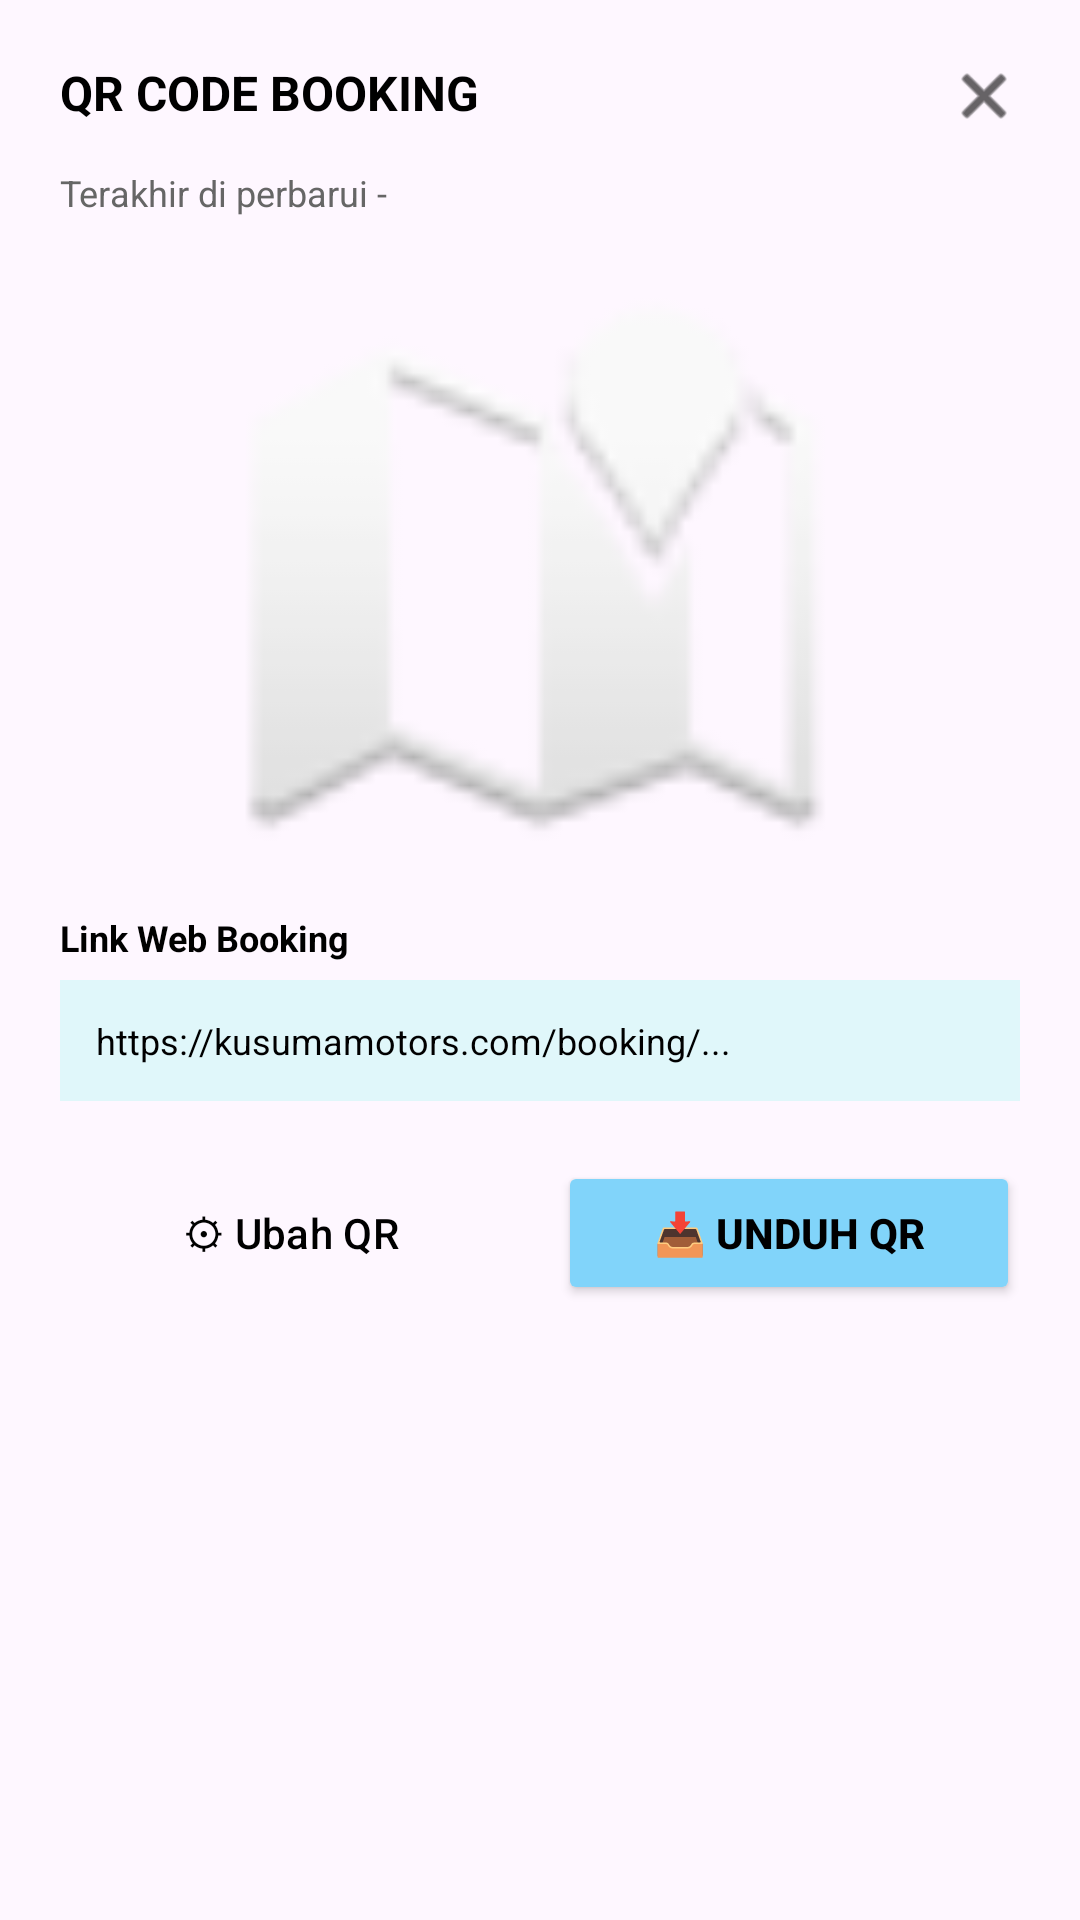

Point at icon controls on the screen. Image size 1080x1920, points as [x,y].
close clear cancel: [984,96]
